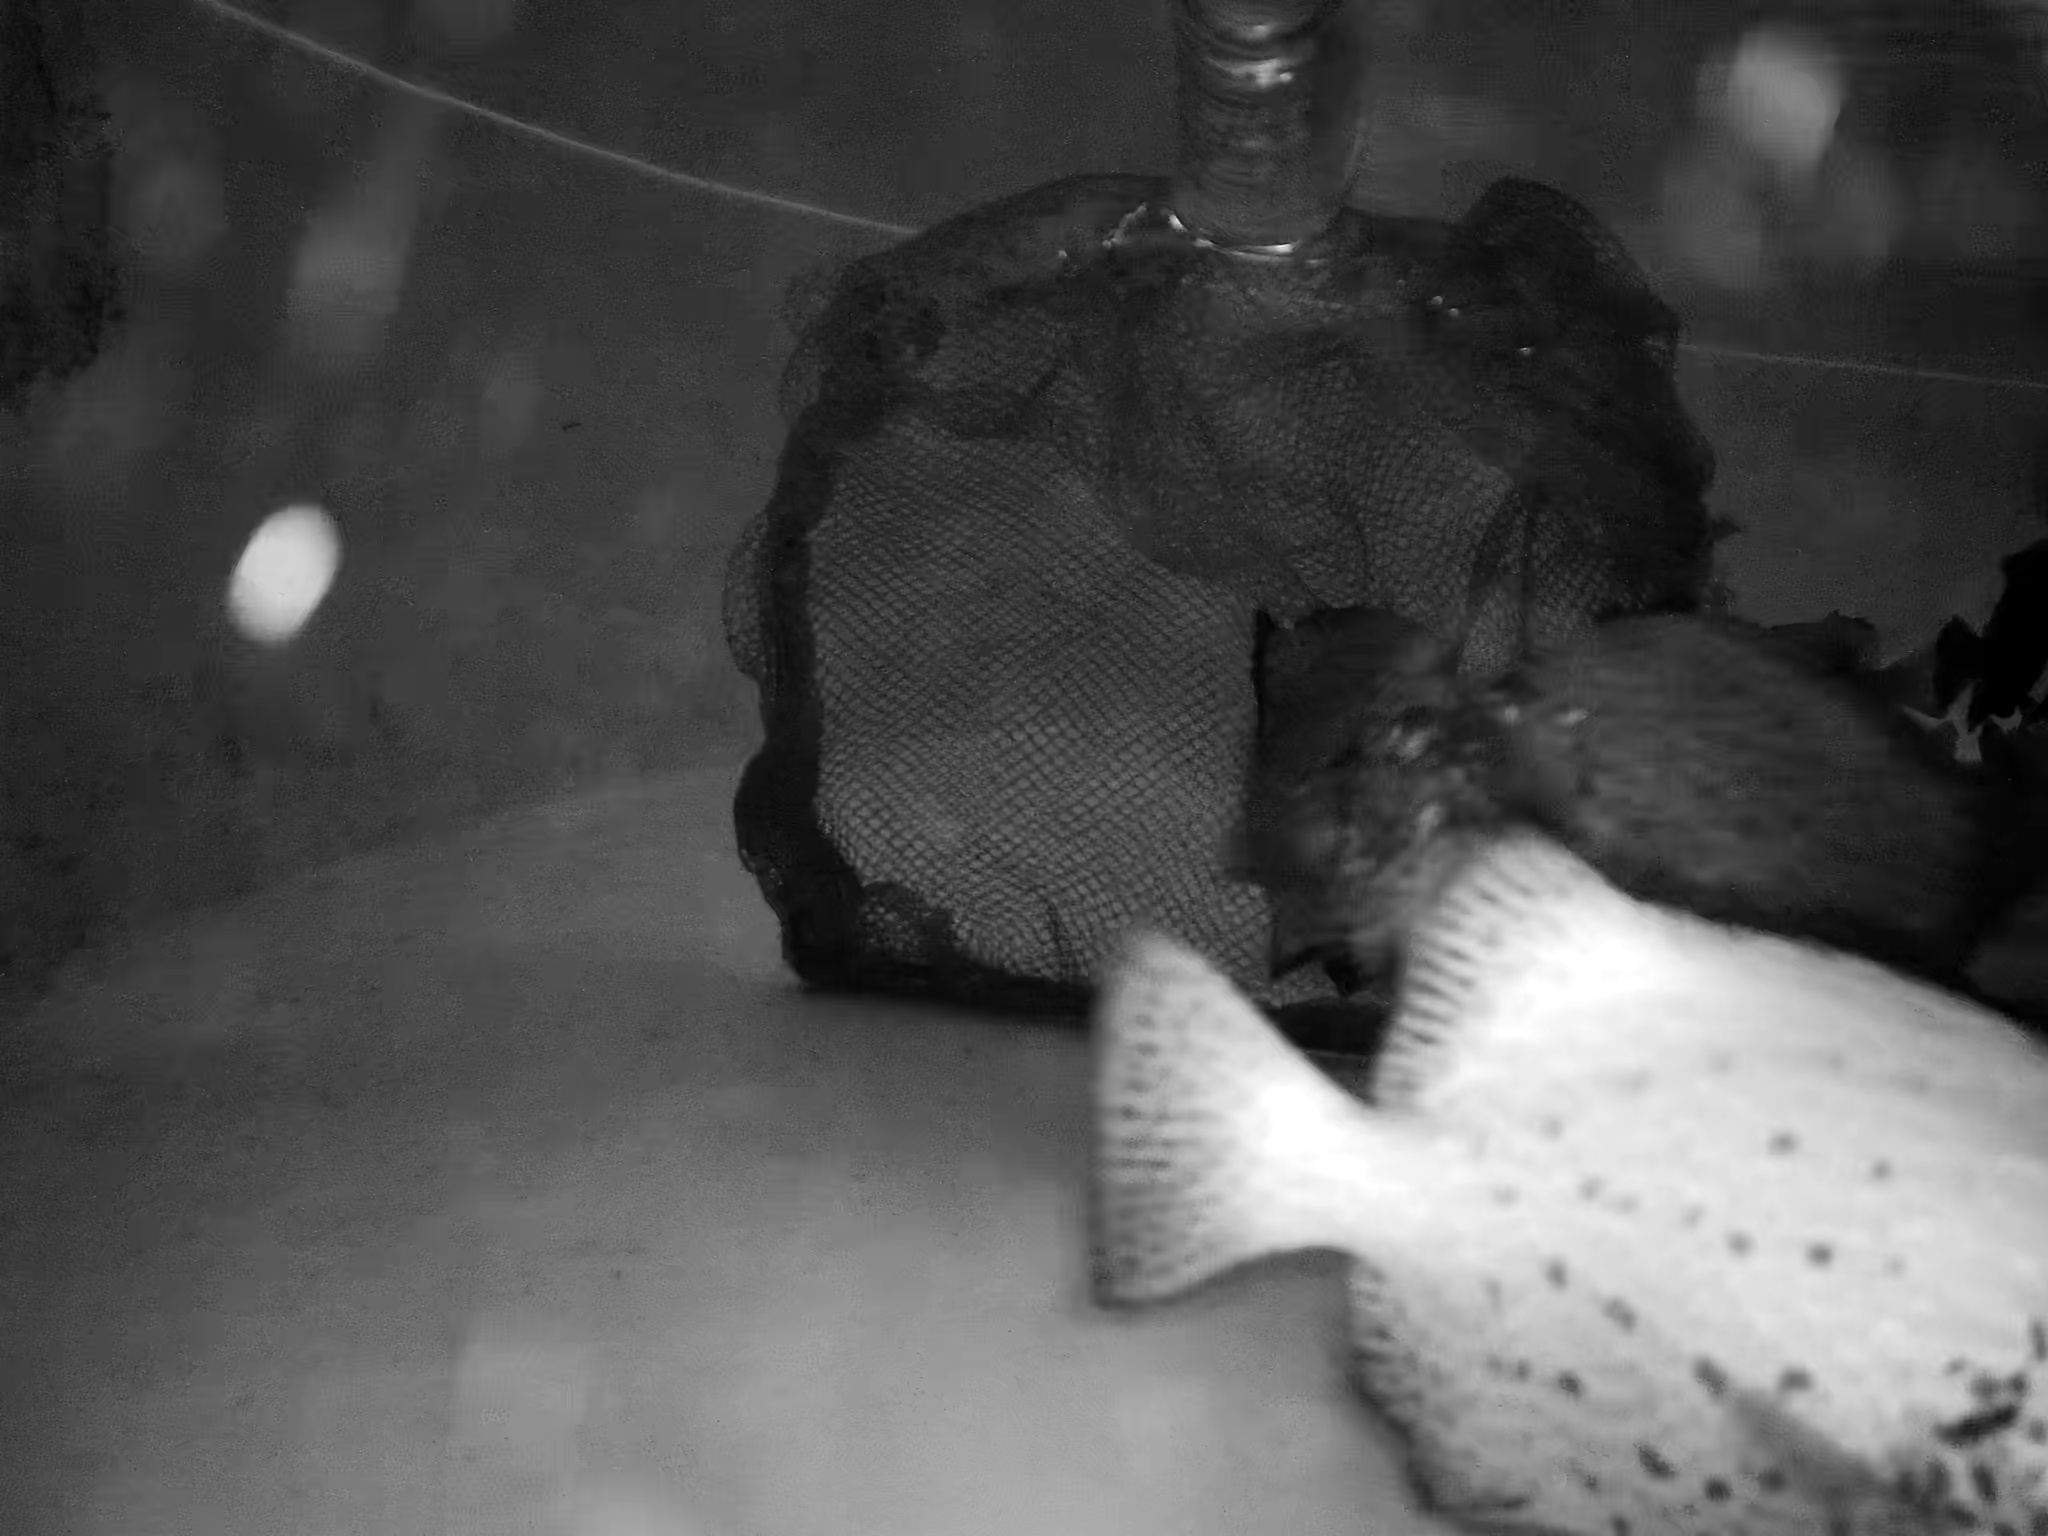fish: (1056, 816, 2048, 1536), (1484, 591, 1980, 941), (1193, 587, 1527, 958), (1913, 581, 2048, 723)
